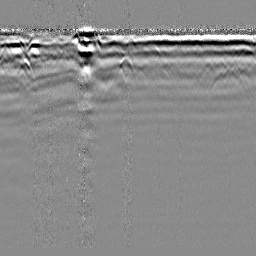cavity: (117, 55, 135, 72)
